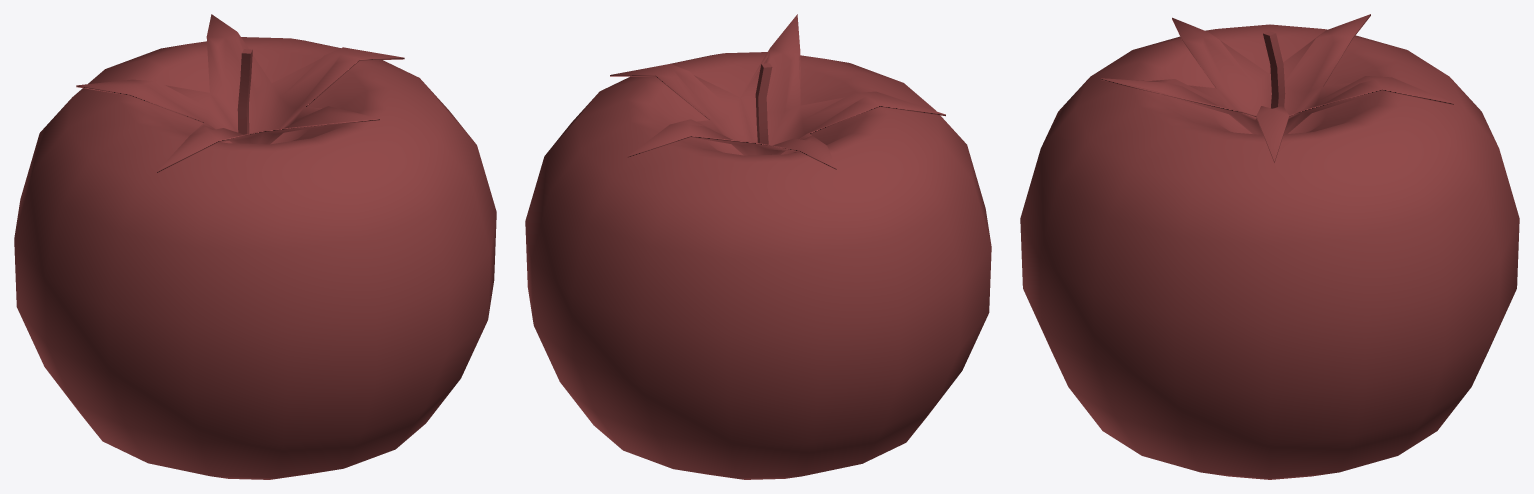
Rendered from Tomato_Raw.fbx.
3 views of the same model, side by side, from view 1: azimuth 30°, elevation 25°; view 2: azimuth 150°, elevation 25°; view 3: azimuth 270°, elevation 25° (orthographic). The views are drawn at different scales.
Parts seen in each view (by area): view 1: Tomato_Raw; view 2: Tomato_Raw; view 3: Tomato_Raw.
Part boxes in pixels (<box>): Tomato_Raw: <box>14,14,496,479</box>; Tomato_Raw: <box>525,14,991,479</box>; Tomato_Raw: <box>1020,14,1519,479</box>.
Bounding box in the file's own units: 75 × 67.56 × 75.
